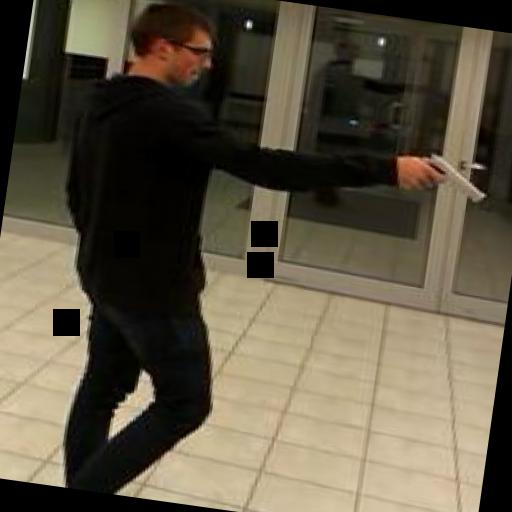Handgun: (404, 148, 489, 202)
